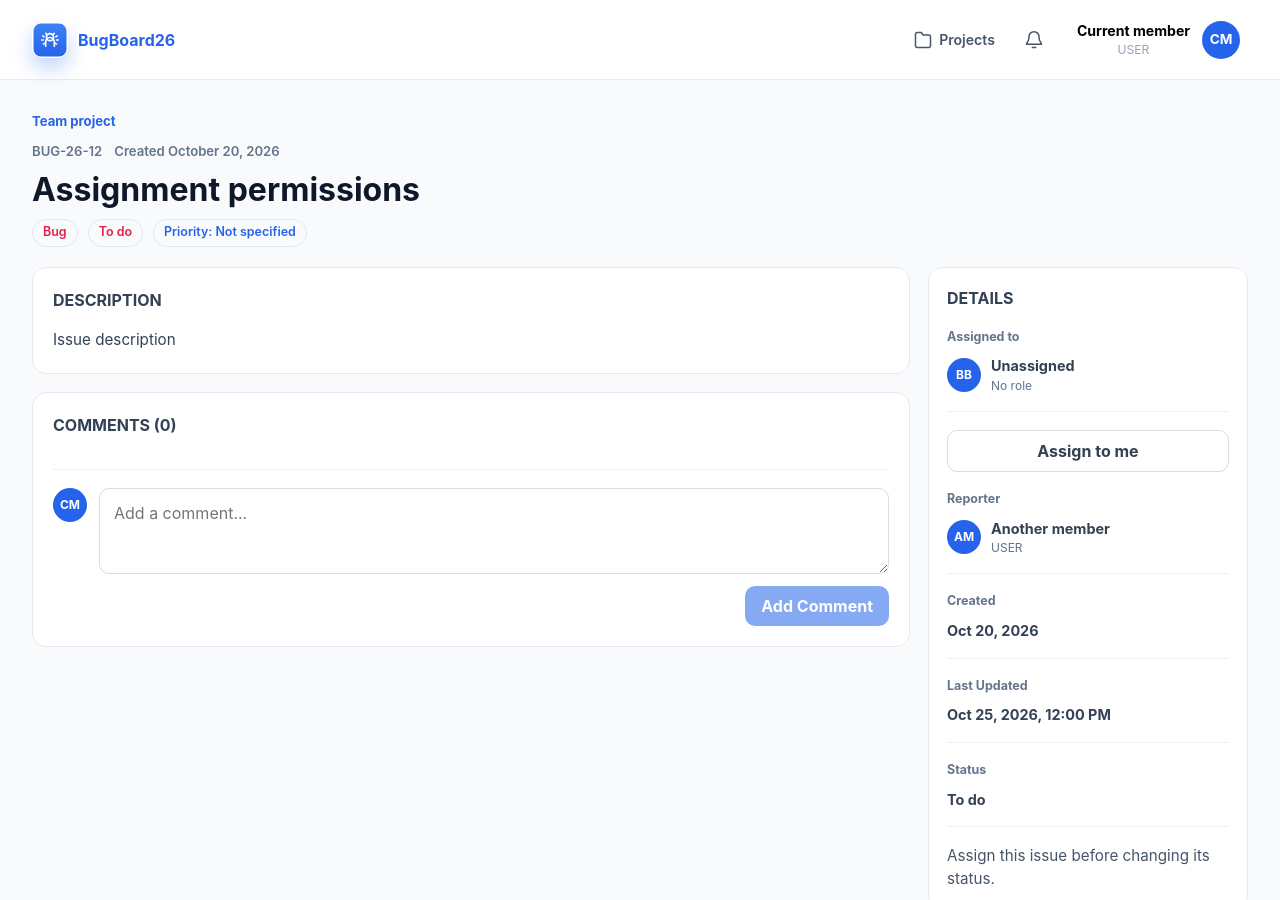
it: a losing self-assignment refreshes Details and hides Assign to me
Check: the heading "Assignment permissions" is shown, box [32, 170, 420, 209]
Click the button "Assign to me" at [1088, 451], box [947, 430, 1229, 472]
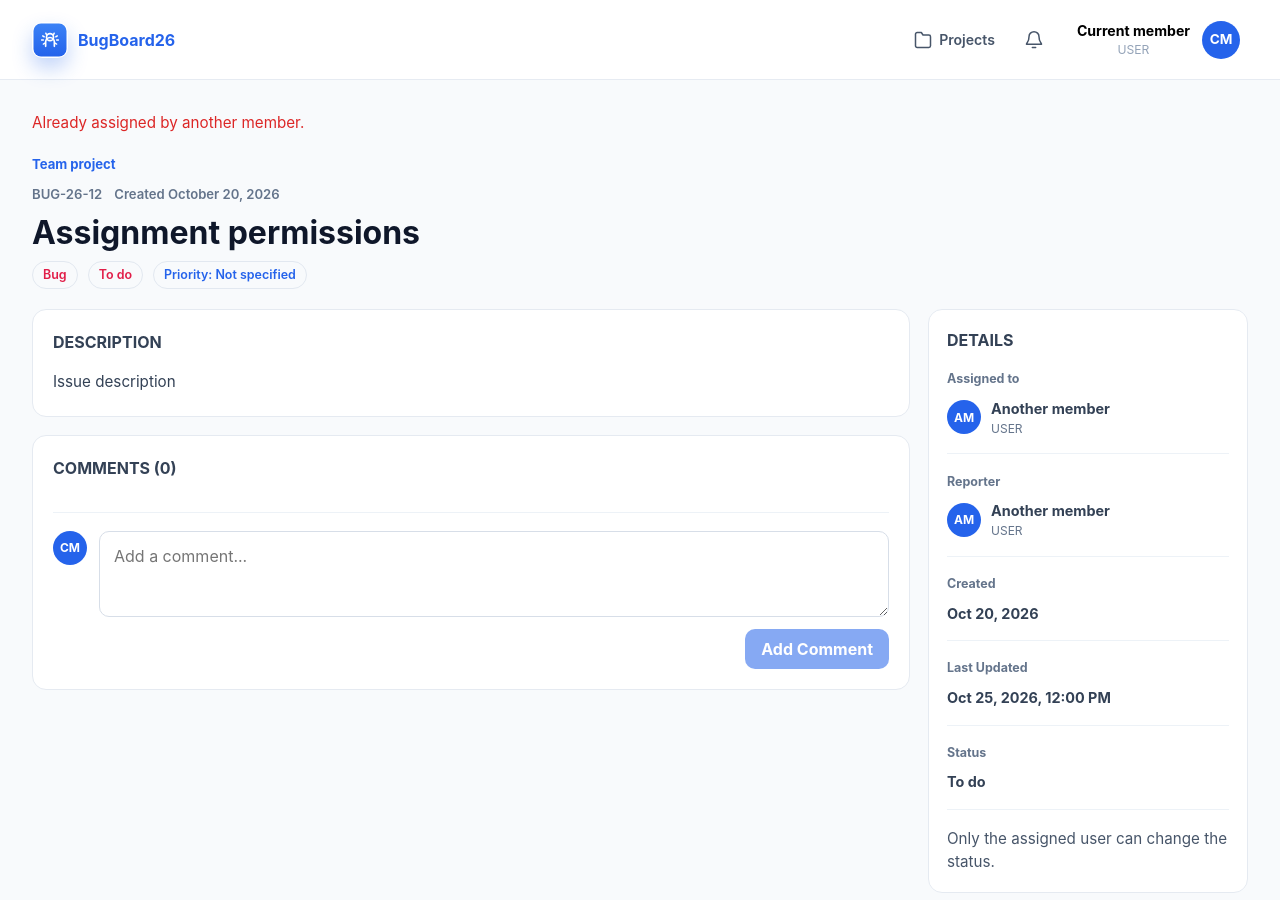
Check: the message reads "Already assigned by another member.", box [32, 113, 304, 132]
Check: the text "Another member" below "Assigned to" is shown, box [991, 400, 1110, 417]
Check: the button "Assign to me" is gone
